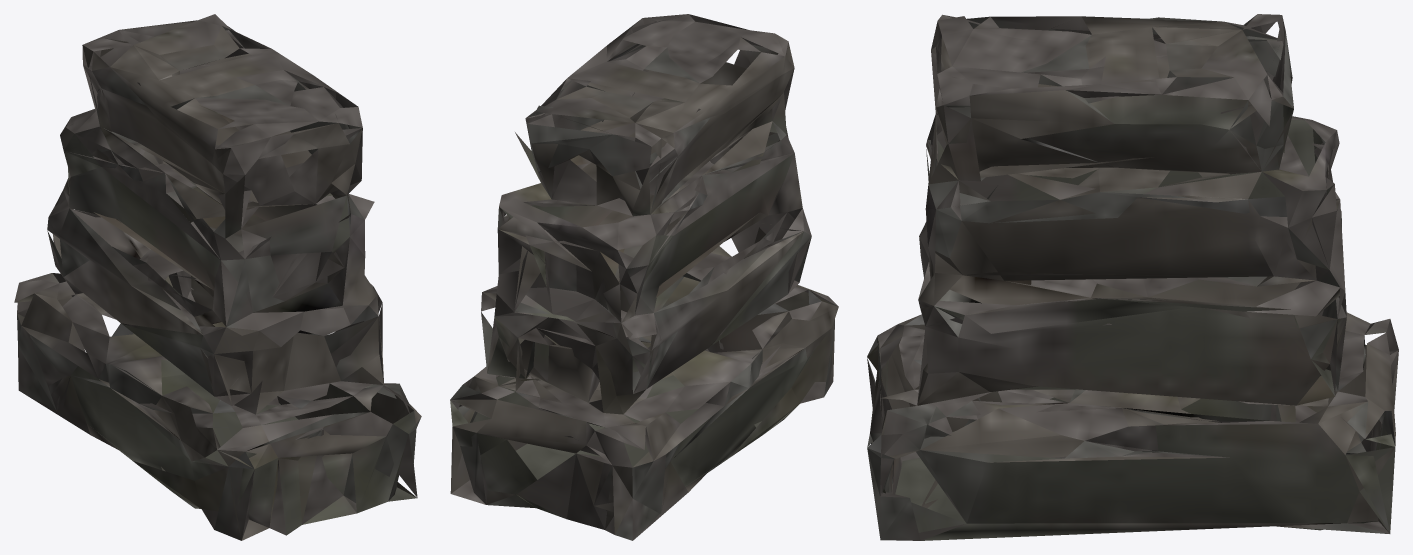
File: crates_1007242721_lod0m.glb
3 renders of one model, left to right at view 1: azimuth 30°, elevation 25°; view 2: azimuth 150°, elevation 25°; view 3: azimuth 270°, elevation 25°, orthographic. The views are drawn at different scales.
Size of the model in its own units: 1.09 by 1.89 by 2.
Materials: 1 (1 with a texture image).
